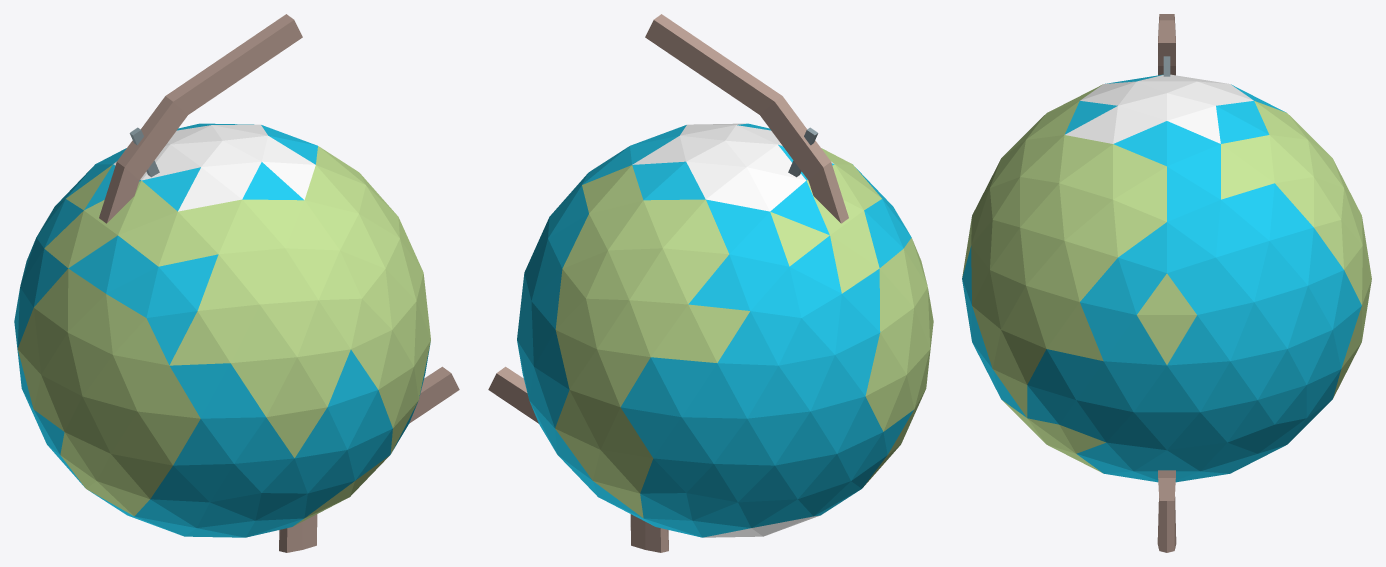
Rendered from globe.fbx.
3 renders of one model, left to right at view 1: azimuth 30°, elevation 25°; view 2: azimuth 150°, elevation 25°; view 3: azimuth 270°, elevation 25°, orthographic. The views are drawn at different scales.
Visible parts, largest first — view 1: globe_ball, globe_holder; view 2: globe_ball, globe_holder; view 3: globe_ball, globe_holder.
Boxes of the visible parts, box(x1,y1,x2,y2) form: globe_ball: box(14, 123, 430, 537); globe_holder: box(99, 14, 459, 552); globe_ball: box(517, 123, 933, 537); globe_holder: box(488, 14, 848, 552); globe_ball: box(962, 74, 1371, 482); globe_holder: box(1157, 14, 1176, 552).
Size of the model in its own units: 782 by 958 by 685.
